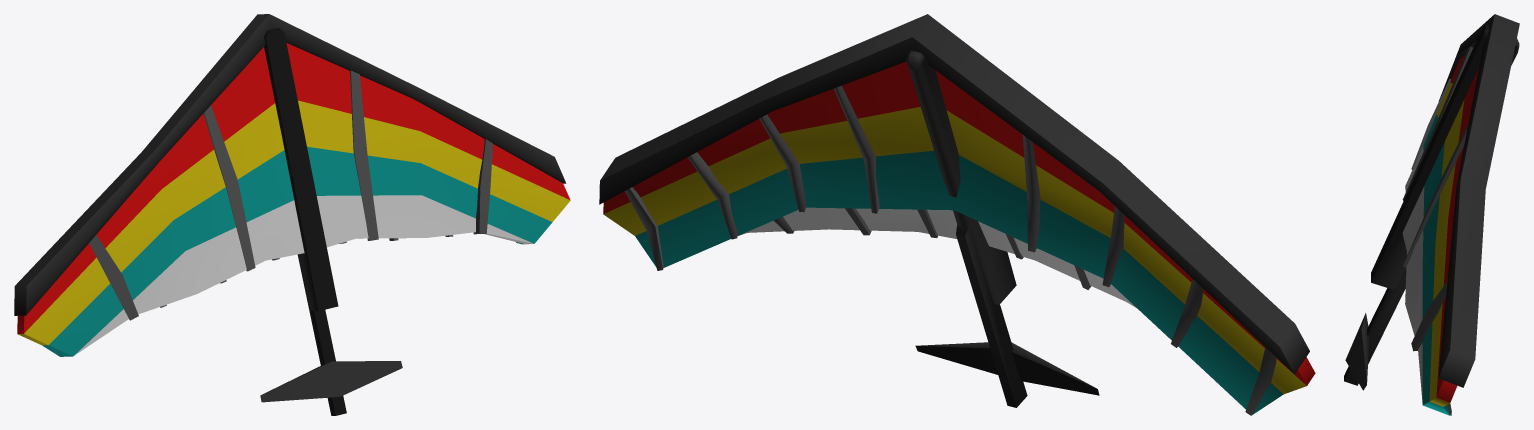
Rendered from hat_premium_Glider.glb.
3 views of the same model, side by side, from view 1: azimuth 30°, elevation 25°; view 2: azimuth 150°, elevation 25°; view 3: azimuth 270°, elevation 25° (orthographic). The views are drawn at different scales.
Parts seen in each view (by area): view 1: hat_premium_Glider; view 2: hat_premium_Glider; view 3: hat_premium_Glider.
Boxes of the visible parts, bbox=[...] form: hat_premium_Glider: bbox=[14, 14, 570, 415]; hat_premium_Glider: bbox=[599, 14, 1315, 415]; hat_premium_Glider: bbox=[1344, 14, 1519, 415].
Bounding box in the file's own units: 0.8858 × 0.5467 × 0.2355.
